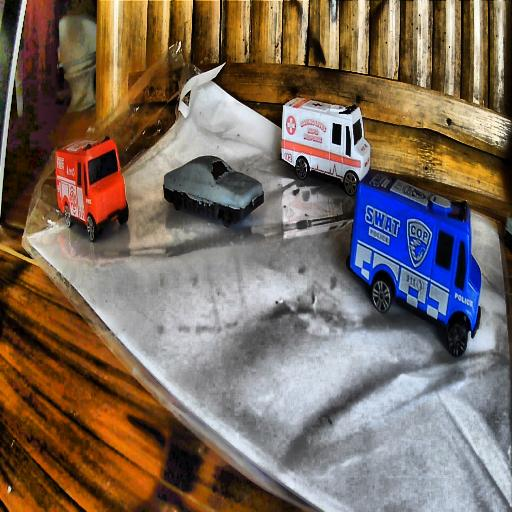ambulance: (280, 97, 368, 196)
fire_truck: (56, 135, 128, 242)
normal_car: (164, 154, 266, 228)
police car: (343, 168, 480, 358)
